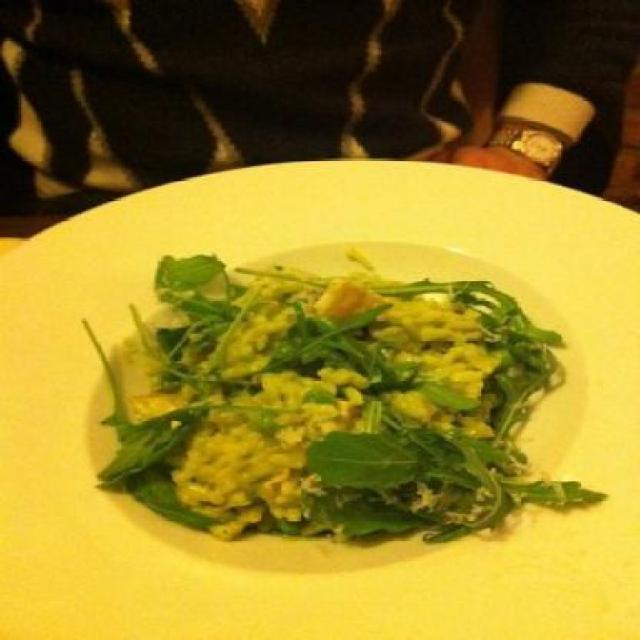Risotto: (97, 260, 565, 526)
